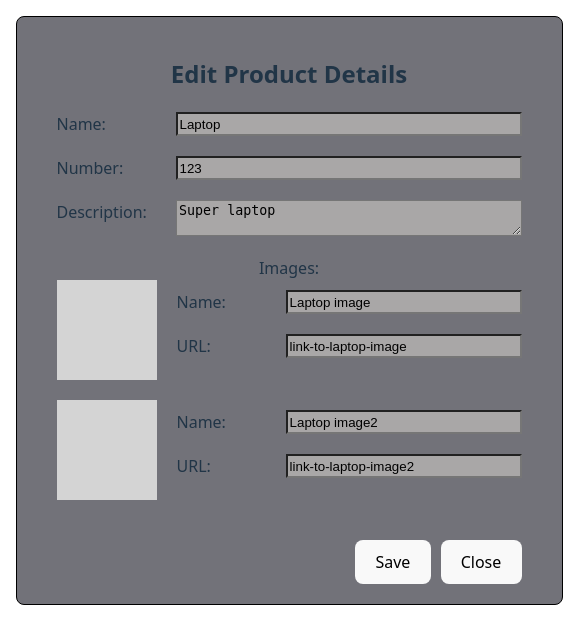
it: EditProductDetails › disables Save button if any field is empty
Clear the field with test id "name-1" at (348, 124), box x1=176 y1=112 x2=522 y2=136
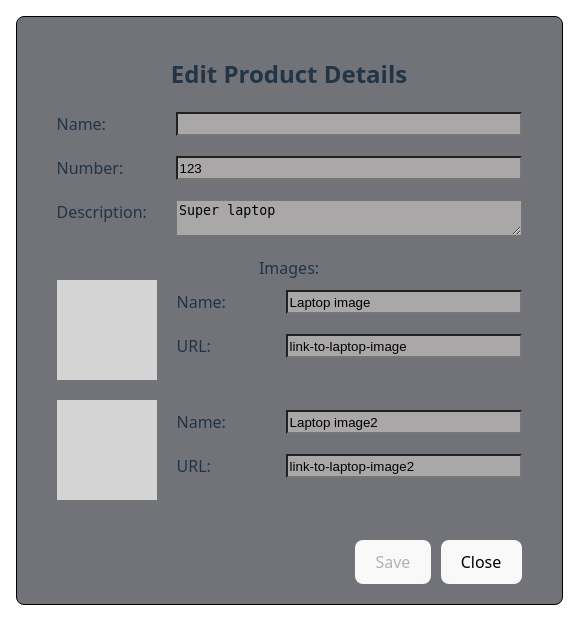
Now the button "Save" is disabled, box x1=355 y1=540 x2=430 y2=584
Type "a" into the field with test id "name-1" at (348, 124), box x1=176 y1=112 x2=522 y2=136
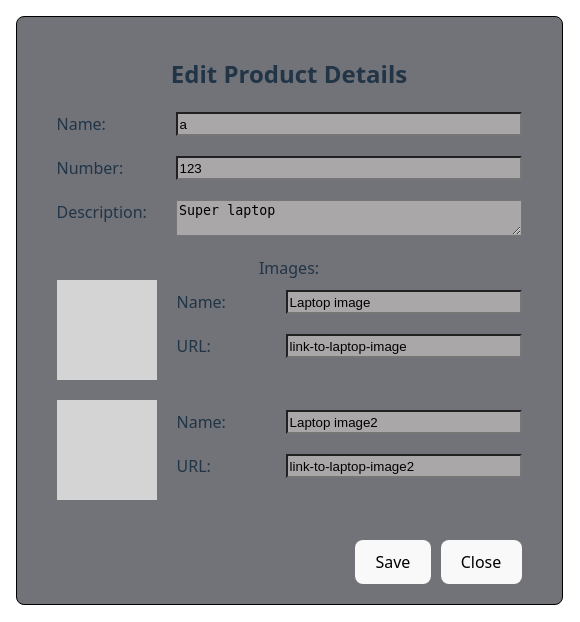
Now the button "Save" is enabled, box x1=355 y1=540 x2=430 y2=584
